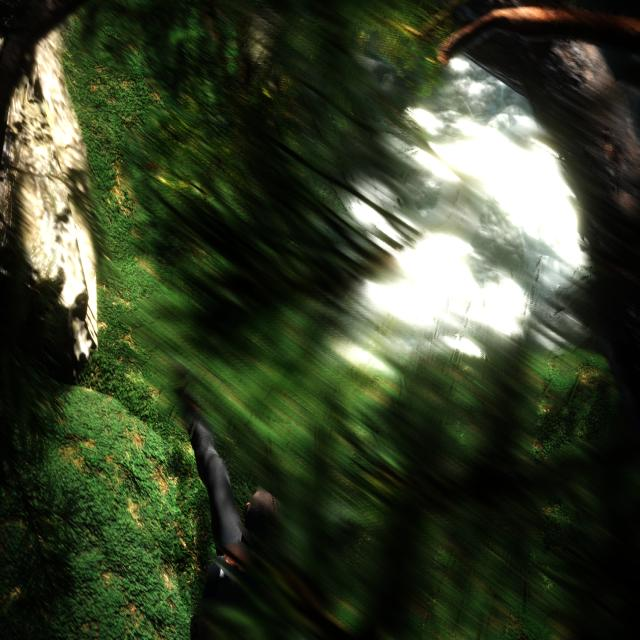Human: (165, 363, 291, 640)
